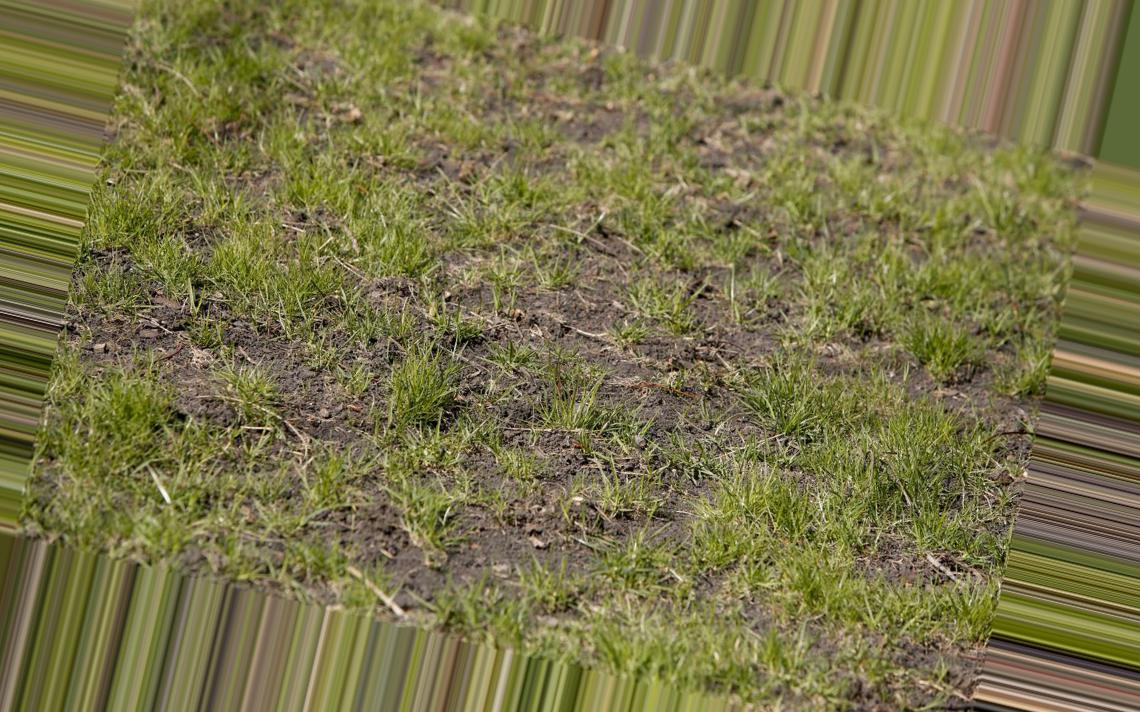patch: (341, 222, 607, 421), (394, 484, 672, 593), (682, 280, 851, 452), (850, 185, 1006, 298), (192, 325, 308, 467), (730, 495, 892, 587), (480, 110, 660, 179)
